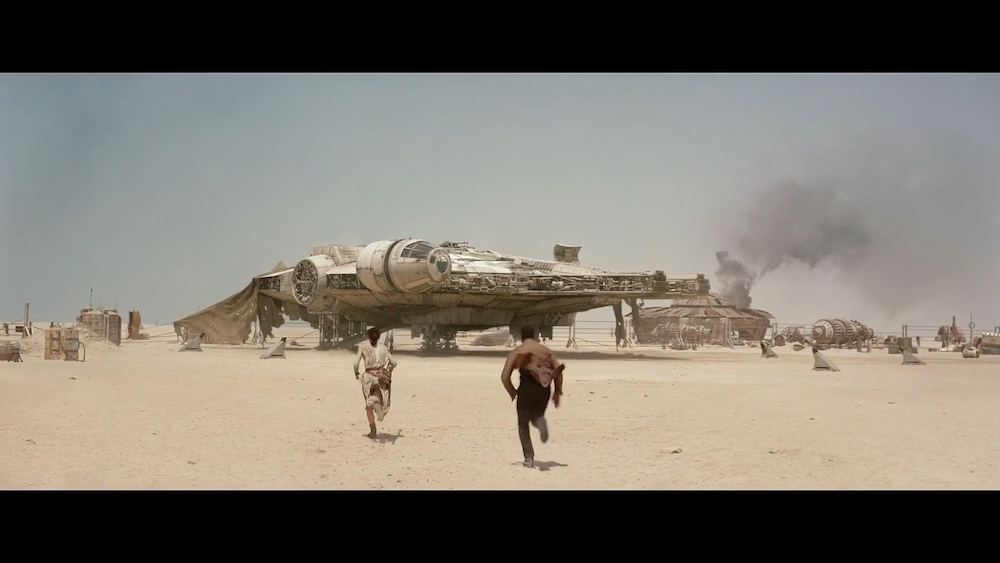Millennium Falcon: (255, 238, 709, 333)
